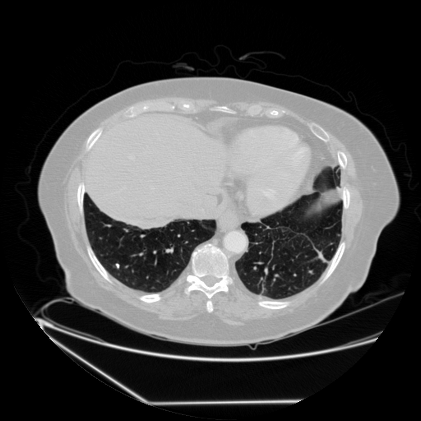nodule: (115, 263, 119, 267)
